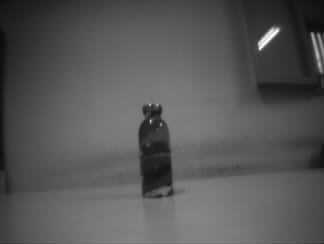Bottle: (138, 103, 175, 199)
